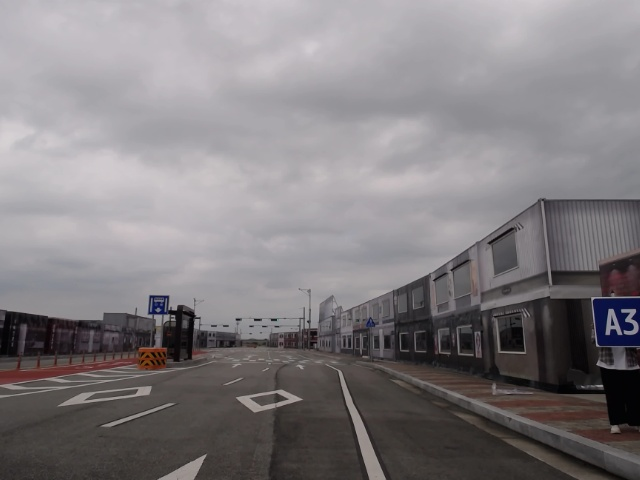delivery_a3: (592, 296, 639, 347)
